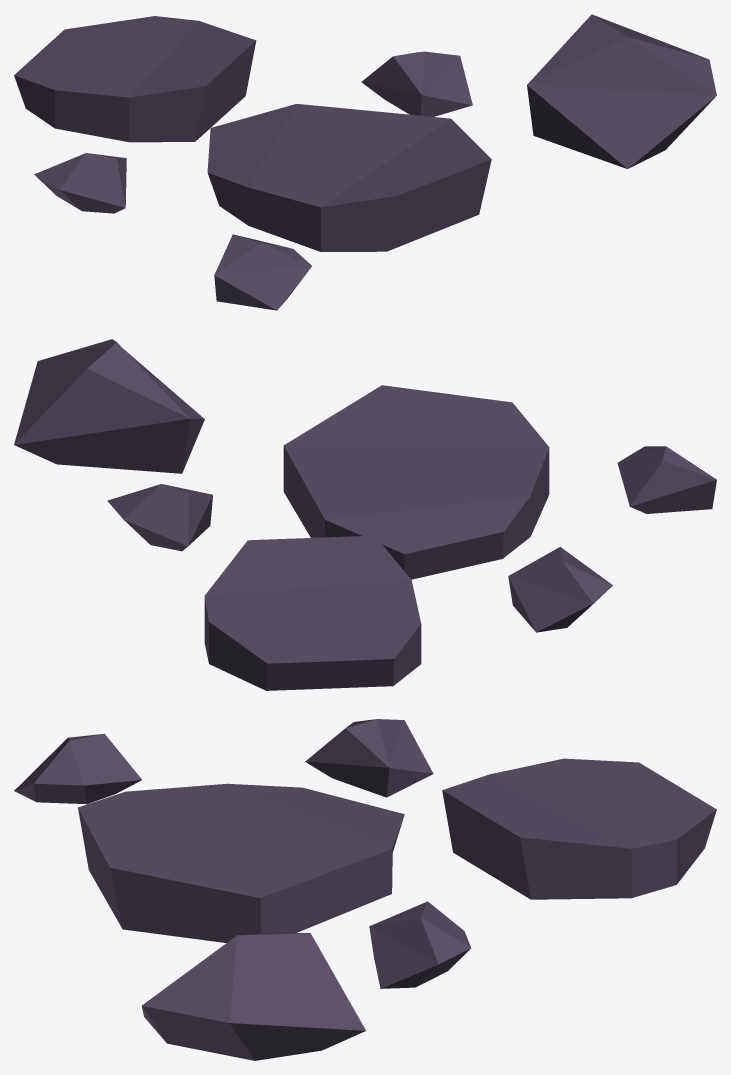
File: SM_rock_cluster_01.fbx
3 renders of one model, top to bottom at view 1: azimuth 30°, elevation 25°; view 2: azimuth 150°, elevation 25°; view 3: azimuth 270°, elevation 25°, orthographic. The views are drawn at different scales.
Parts seen in each view (by area): view 1: rock_cluster_01; view 2: rock_cluster_01; view 3: rock_cluster_01.
Boxes of the visible parts, x1=… form: rock_cluster_01: x1=14, y1=14, x2=716, y2=310; rock_cluster_01: x1=14, y1=339, x2=716, y2=690; rock_cluster_01: x1=14, y1=719, x2=716, y2=1060.
Size of the model in its own units: 171 by 25.16 by 153.
